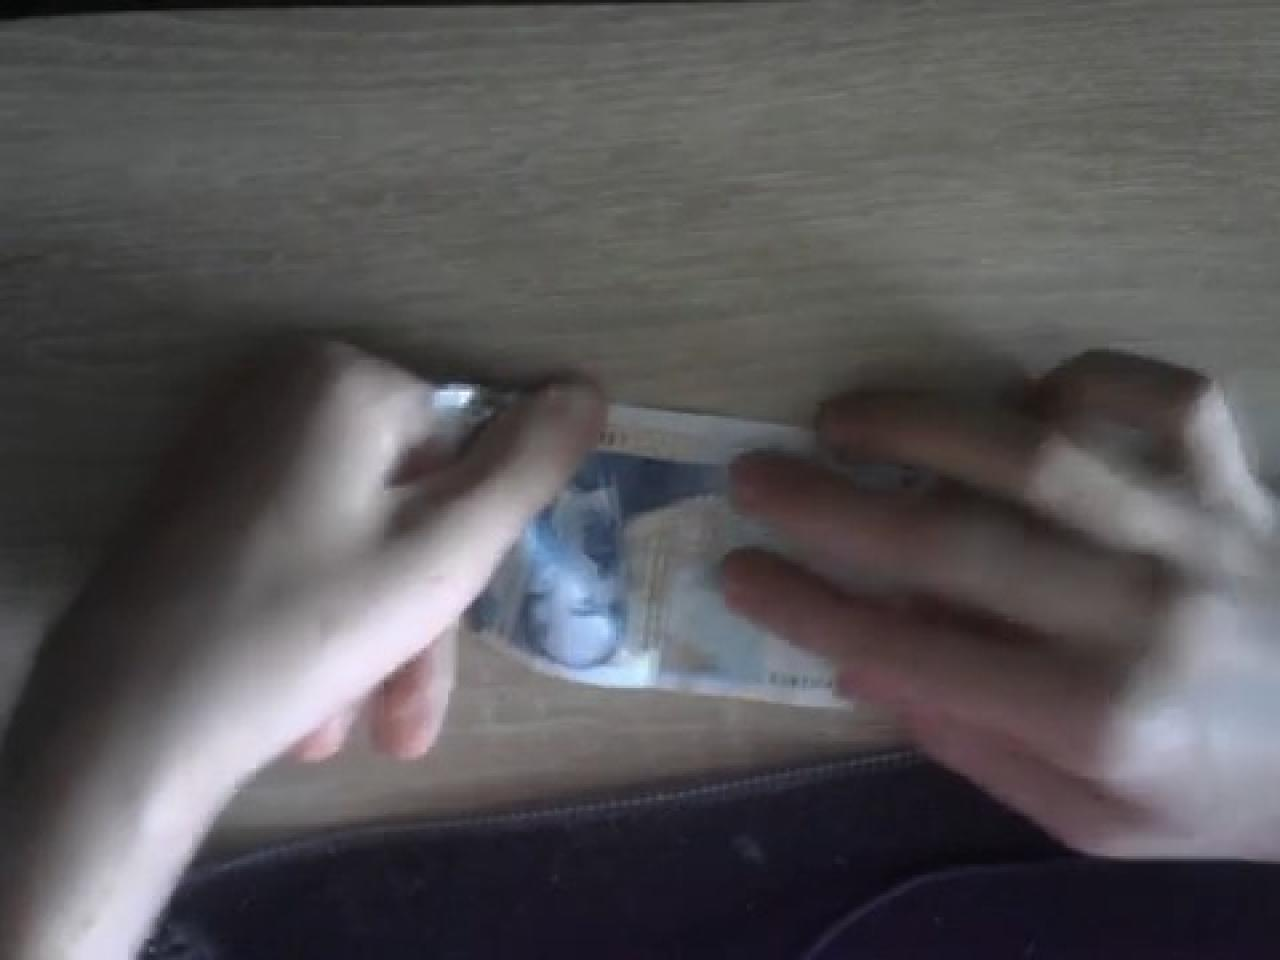20leva: (464, 454, 833, 699)
